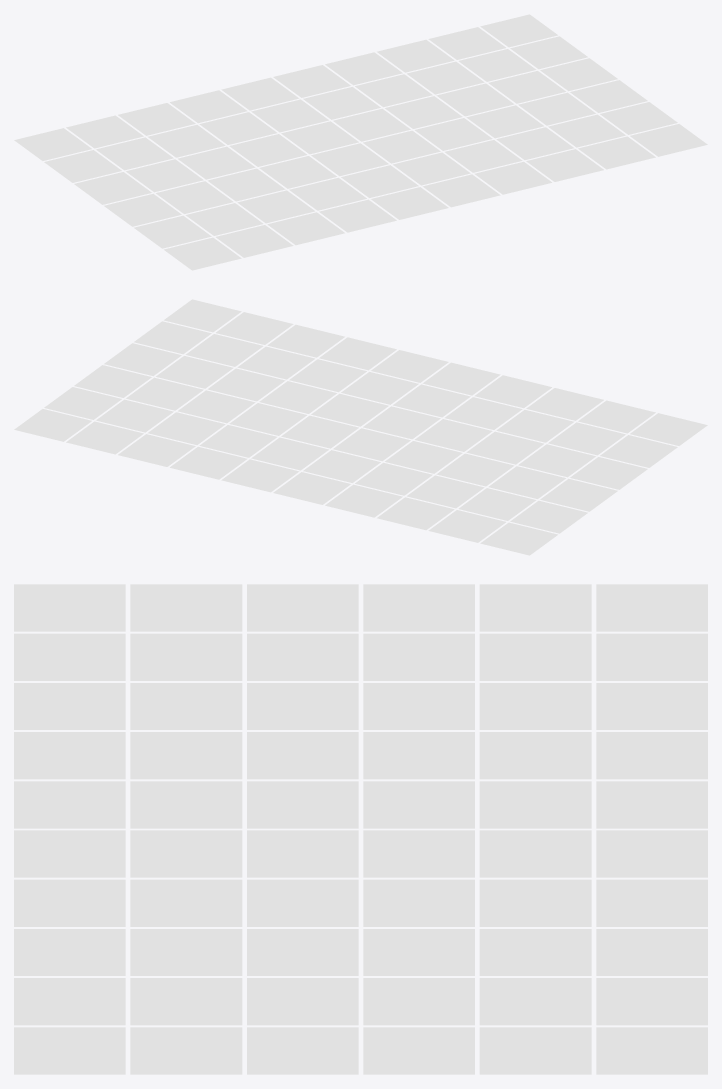
Rendered from ConvoyWave.fbx.
3 renders of one model, top to bottom at view 1: azimuth 30°, elevation 25°; view 2: azimuth 150°, elevation 25°; view 3: azimuth 270°, elevation 25°, orthographic. The views are drawn at different scales.
Visible parts, largest first — view 1: pPlane25; view 2: pPlane25; view 3: pPlane25.
Boxes of the visible parts, bbox=[...] form: pPlane25: bbox=[14, 14, 707, 270]; pPlane25: bbox=[14, 299, 707, 555]; pPlane25: bbox=[14, 584, 707, 1074].
Bounding box in the file's own units: 996 × 2.13e-14 × 596.
